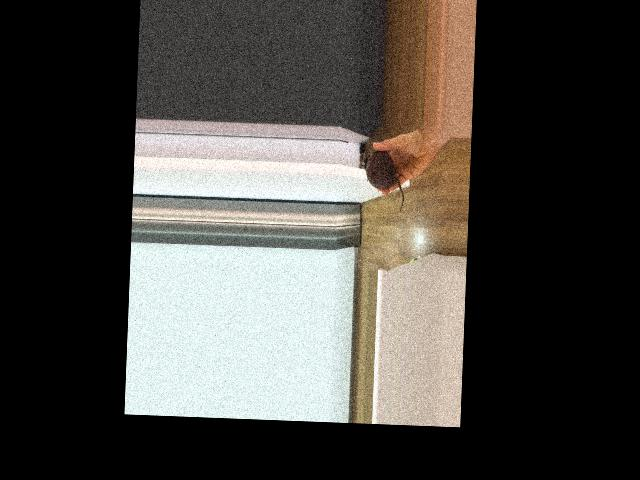beet: (362, 150, 405, 212)
